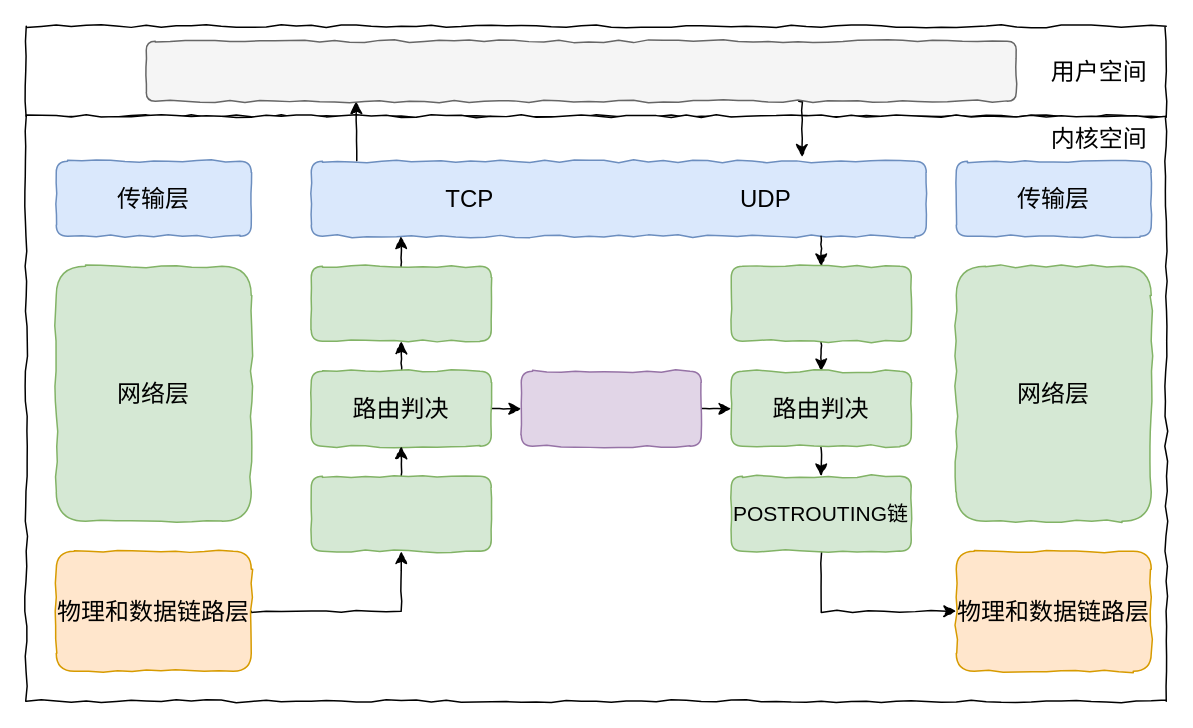
Some shapes in this 1193 by 728 pixel diagram are drawn without their labels. Here are the shapes that lost their labels. From the top down, the centre of each, then its label:
At (580,70): "应用层".
At (400,303): "INPUT链".
At (820,303): "OUTPUT链".
At (610,408): "FORWARD链".
At (400,513): "PERROUTING链".
